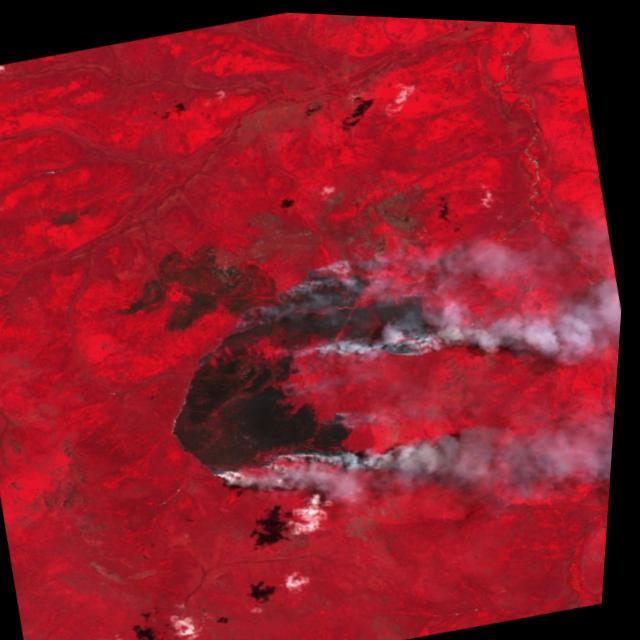fire: (160, 231, 487, 509)
